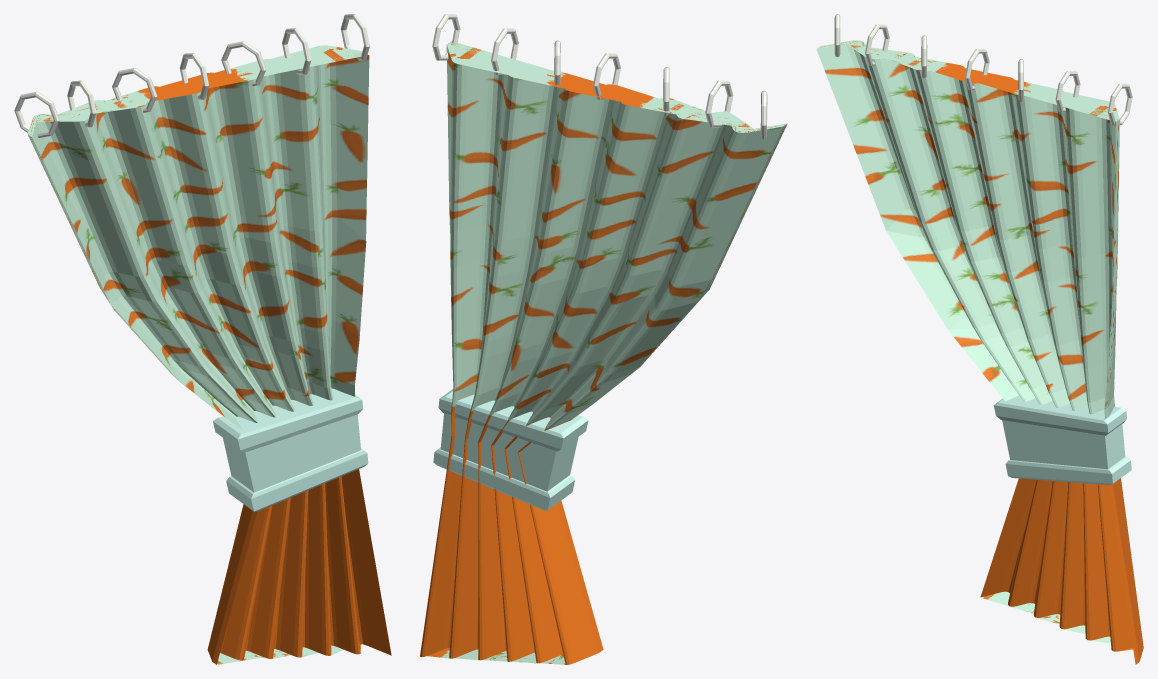
Rendered from perde2.fbx.
The picture shows the model from 3 angles, left to right: view 1: azimuth 30°, elevation 25°; view 2: azimuth 150°, elevation 25°; view 3: azimuth 330°, elevation 25°; orthographic projection. The views are drawn at different scales.
Parts seen in each view (by area): view 1: Torus.007; view 2: Torus.007; view 3: Torus.007.
Part boxes in pixels (x1,y1,x2,y2): Torus.007: (14,14,391,664); Torus.007: (420,14,787,664); Torus.007: (816,14,1143,664).
Size of the model in its own units: 399 by 49.78 by 680.
